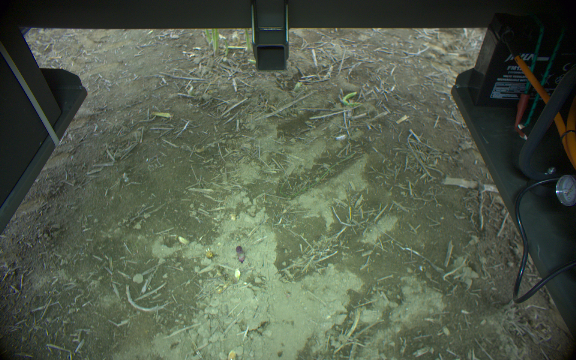aspa: (341, 89, 361, 107), (243, 29, 251, 51), (214, 28, 220, 56), (205, 29, 212, 44)
